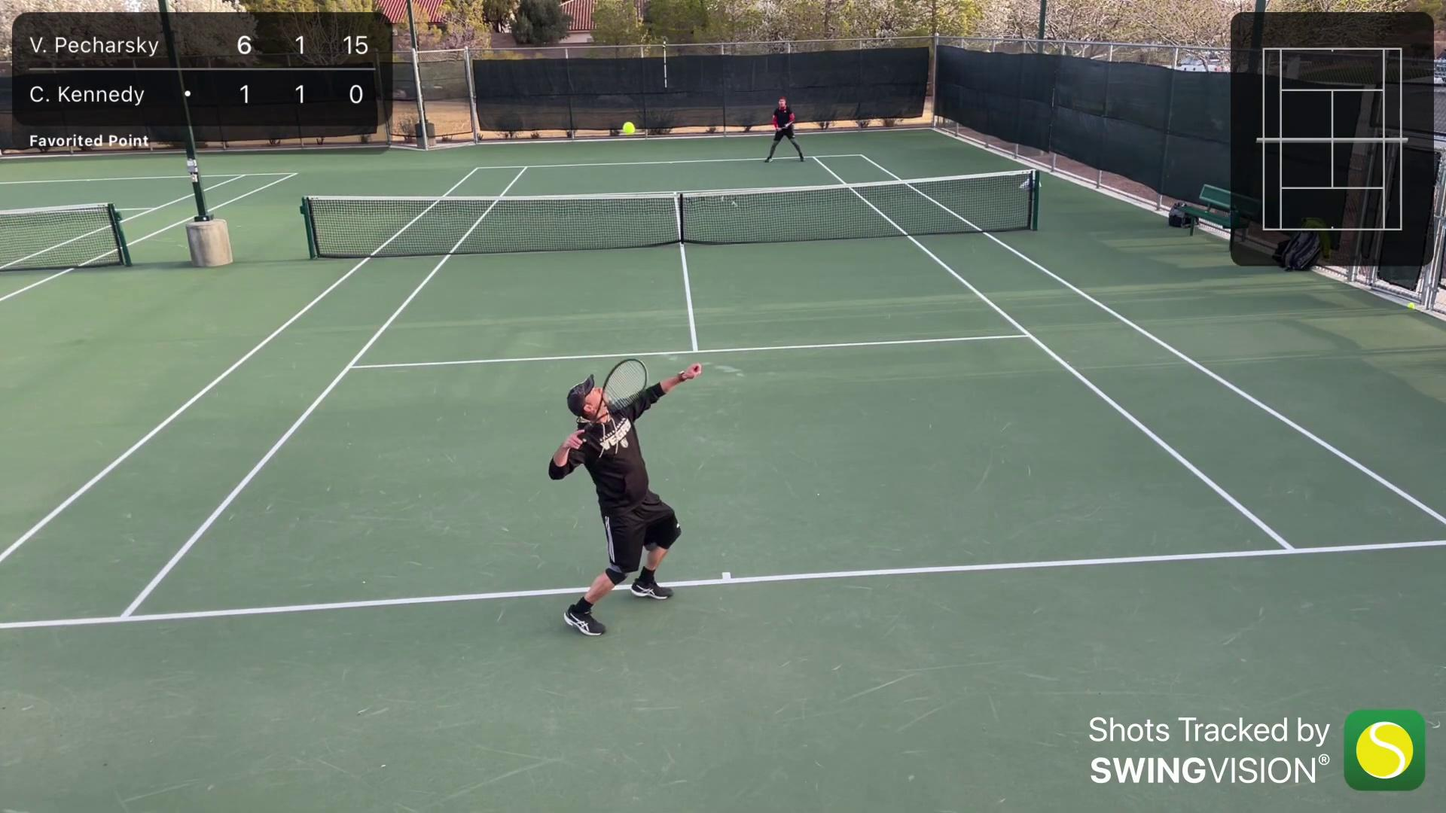ball: (621, 120, 637, 139)
